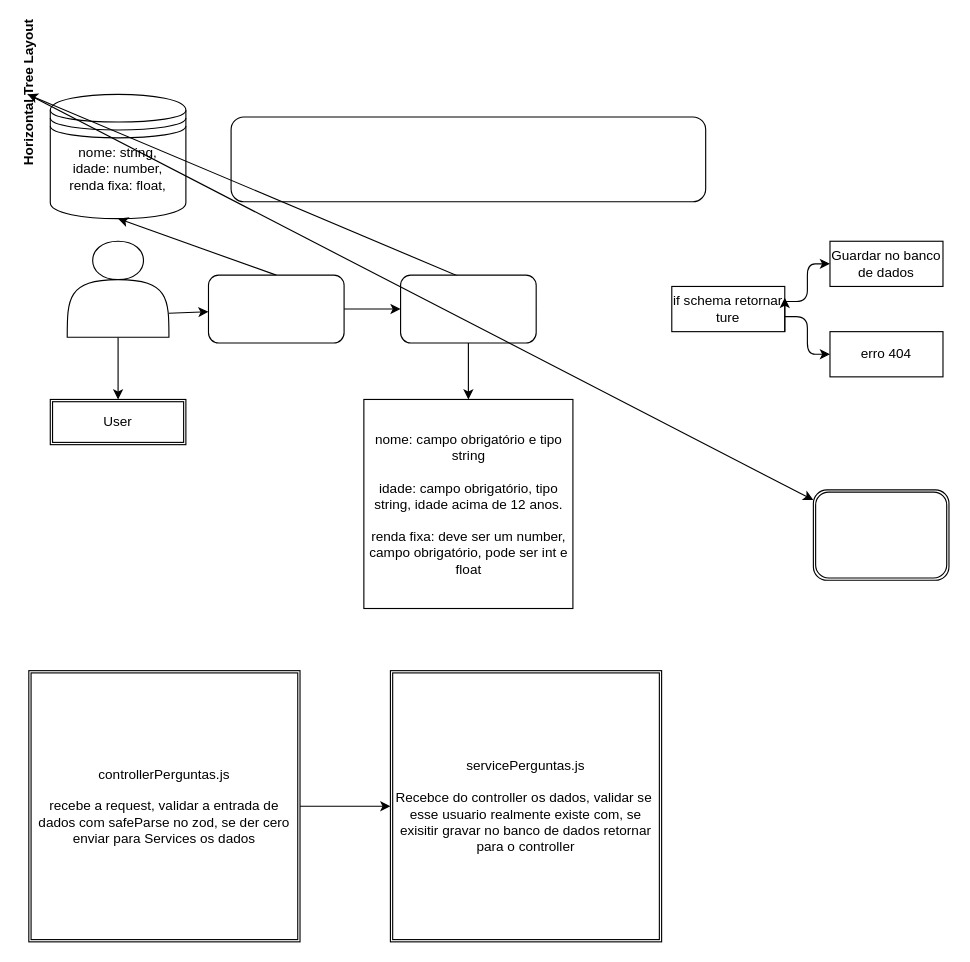
The diagram is 970 pixels wide and 962 high, and some of its shapes have lost their labels. The shapes that lost their labels are listed below. From the top down, each one's centre as x and y in pixels, then its label:
[468,159]: APIs de perguntas implementar de perfil
[275,308]: Entrada de dados
[467,308]: Validar dados e tipos
[880,534]: Return um erro
